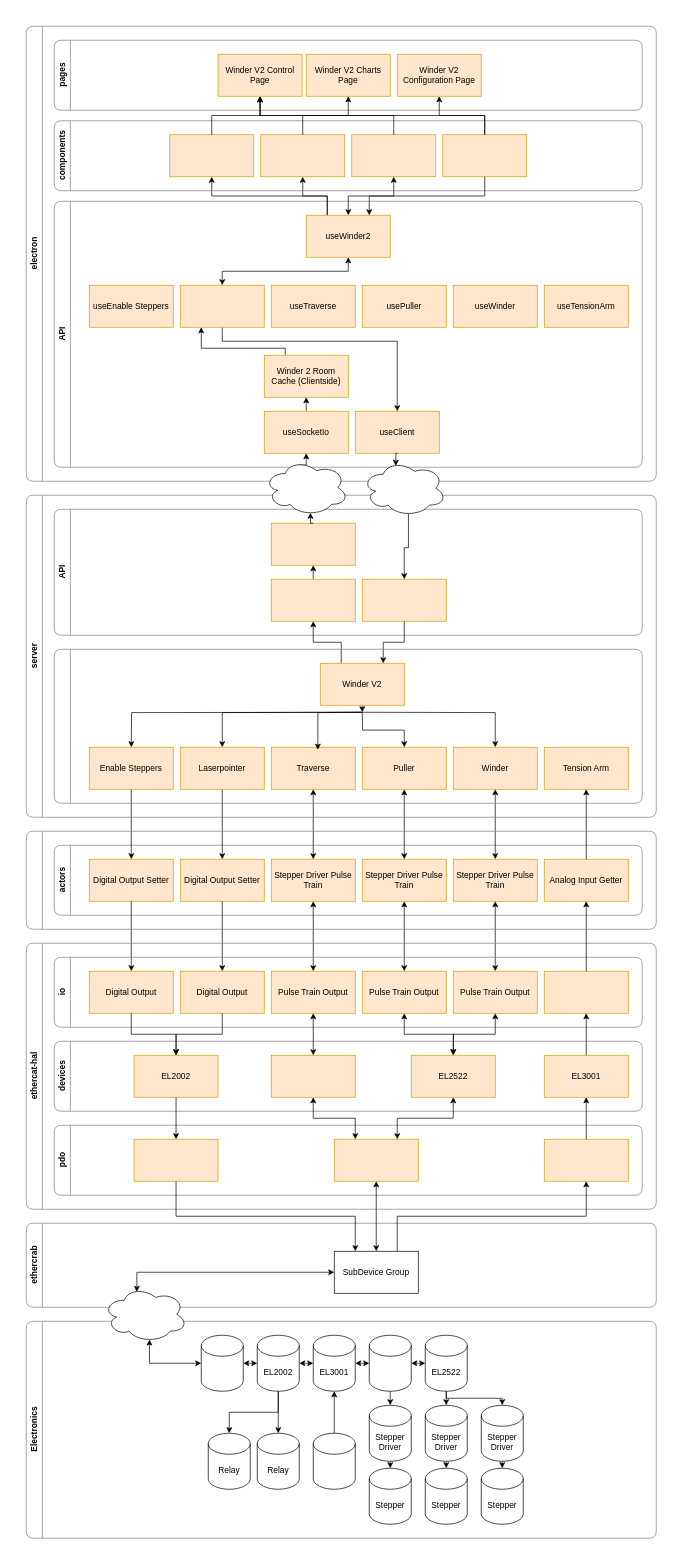
The diagram is 682 pixels wide and 1564 high, and some of its shapes have lost their labels. Each missing label, with the centre of its shape:
"<EditValue>" belongs at pixel 484 155.
"<SelectionGroup>" belongs at pixel 393 155.
"<ValueMonitorLarge>" belongs at pixel 302 155.
"<ValueMonitorSmall>" belongs at pixel 211 155.
"Analog Input" belongs at pixel 586 992.
"basic.rs" belongs at pixel 175 1160.
"control-core" belongs at pixel 341 880.
"EK1100" belongs at pixel 222 1363.
"EL2521" belongs at pixel 313 1076.
"el252x.rs" belongs at pixel 376 1160.
"el30xx.rs" belongs at pixel 586 1160.
"EL521" belongs at pixel 390 1363.
"EtherCat" belongs at pixel 145 1314.
"logic" belongs at pixel 348 726.
"Poti" belongs at pixel 334 1461.
"REST" belongs at pixel 404 488.
"SocketIO" belongs at pixel 306 487.
"useLaserpointer" belongs at pixel 222 306.
"Winder V2 Event Cache (Serverside)" belongs at pixel 313 544.
"Winder V2 Events" belongs at pixel 313 600.
"Winder V2 Mutations" belongs at pixel 404 600.
